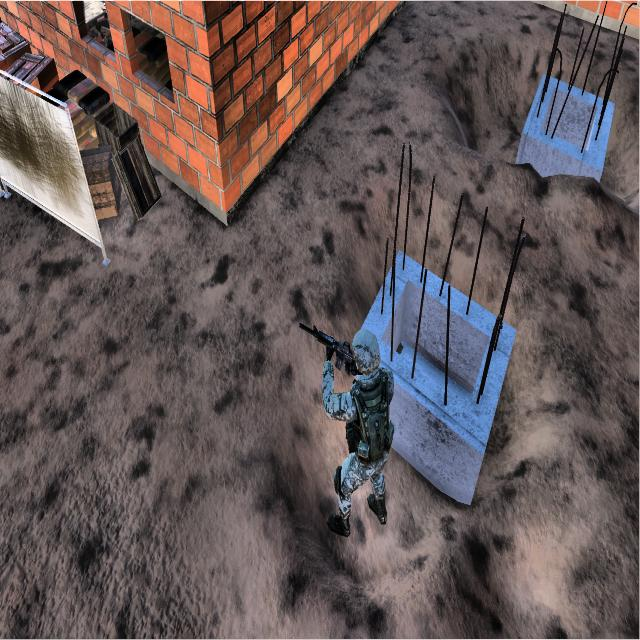bad: (279, 308, 403, 547)
